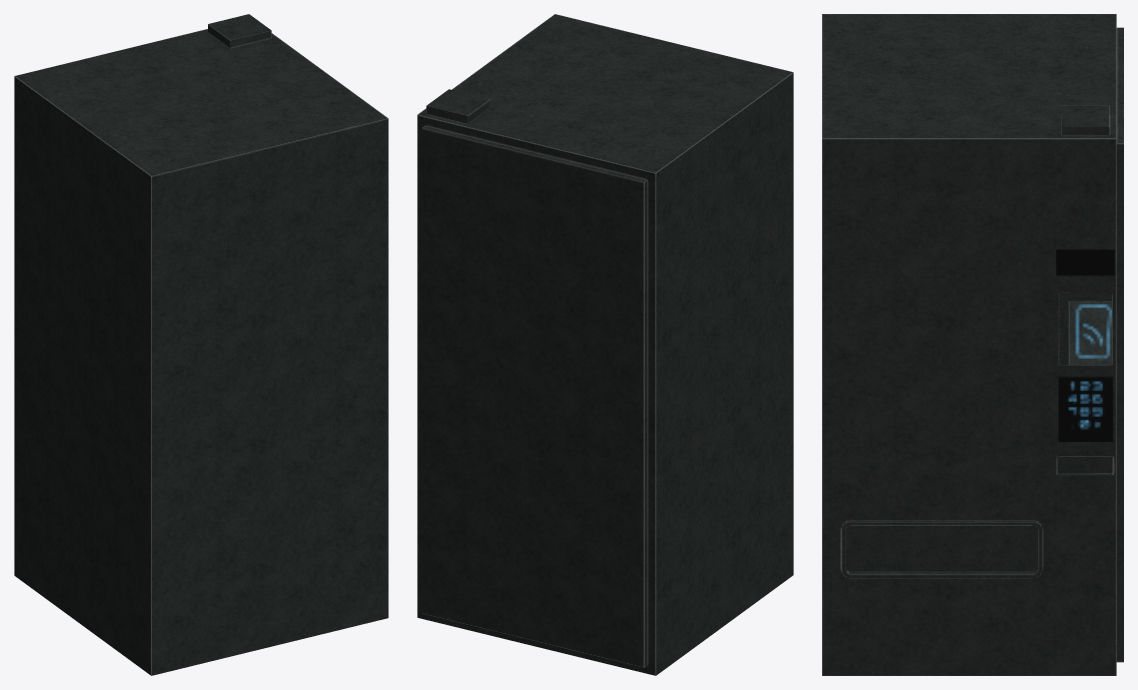
The model's file is Scp261.glb.
The picture shows the model from 3 angles, left to right: view 1: azimuth 30°, elevation 25°; view 2: azimuth 150°, elevation 25°; view 3: azimuth 270°, elevation 25°; orthographic projection. The views are drawn at different scales.
Visible parts, largest first — view 1: Cube; view 2: Cube; view 3: Cube, Cube.001.
Boxes of the visible parts, box(x1,y1,x2,y2) form: Cube: box(14, 14, 388, 675); Cube: box(417, 14, 793, 675); Cube: box(822, 14, 1123, 675); Cube.001: box(845, 526, 1037, 571).
Size of the model in its own units: 1.14 by 2.31 by 1.16.
1 material, 1 textured.
